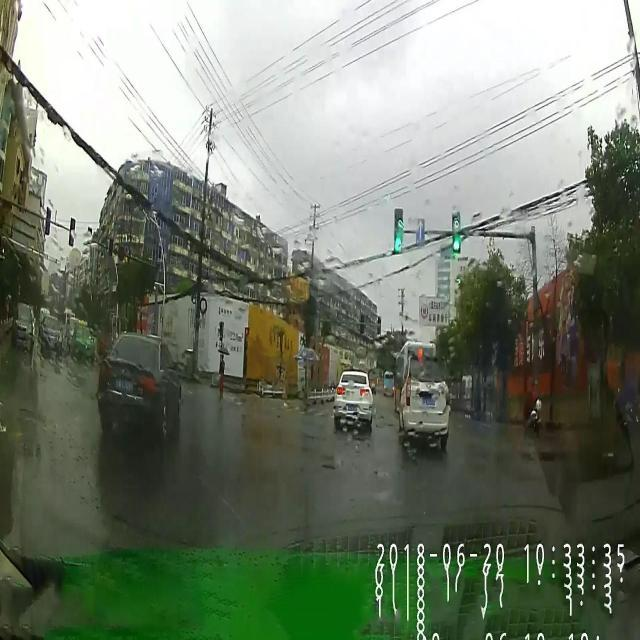car: (96, 330, 180, 438), (400, 358, 450, 453), (334, 372, 372, 428), (66, 318, 98, 362), (12, 298, 34, 353), (38, 312, 62, 356)
